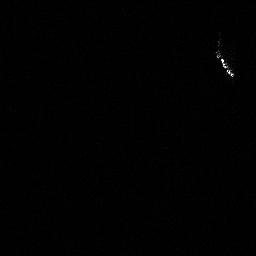ship: (220, 57, 234, 77)
